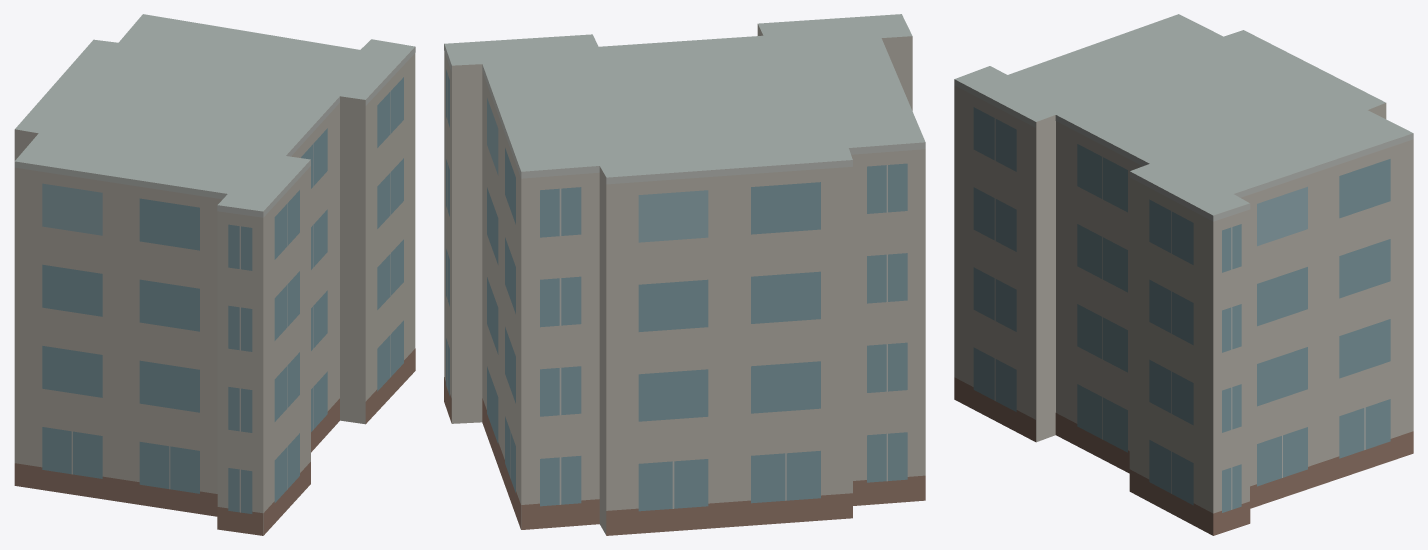
The model's file is survey-upis-32739246.glb.
3 views of the same model, side by side, from view 1: azimuth 30°, elevation 25°; view 2: azimuth 150°, elevation 25°; view 3: azimuth 270°, elevation 25° (orthographic). The views are drawn at different scales.
Parts seen in each view (by area): view 1: survey-upis-32739246.tmp; view 2: survey-upis-32739246.tmp; view 3: survey-upis-32739246.tmp.
Boxes of the visible parts, box(x1,y1,x2,y2) form: survey-upis-32739246.tmp: box(14, 14, 415, 535); survey-upis-32739246.tmp: box(444, 14, 925, 535); survey-upis-32739246.tmp: box(954, 14, 1413, 535).
Bounding box in the file's own units: 17.28 × 12.8 × 16.64.
